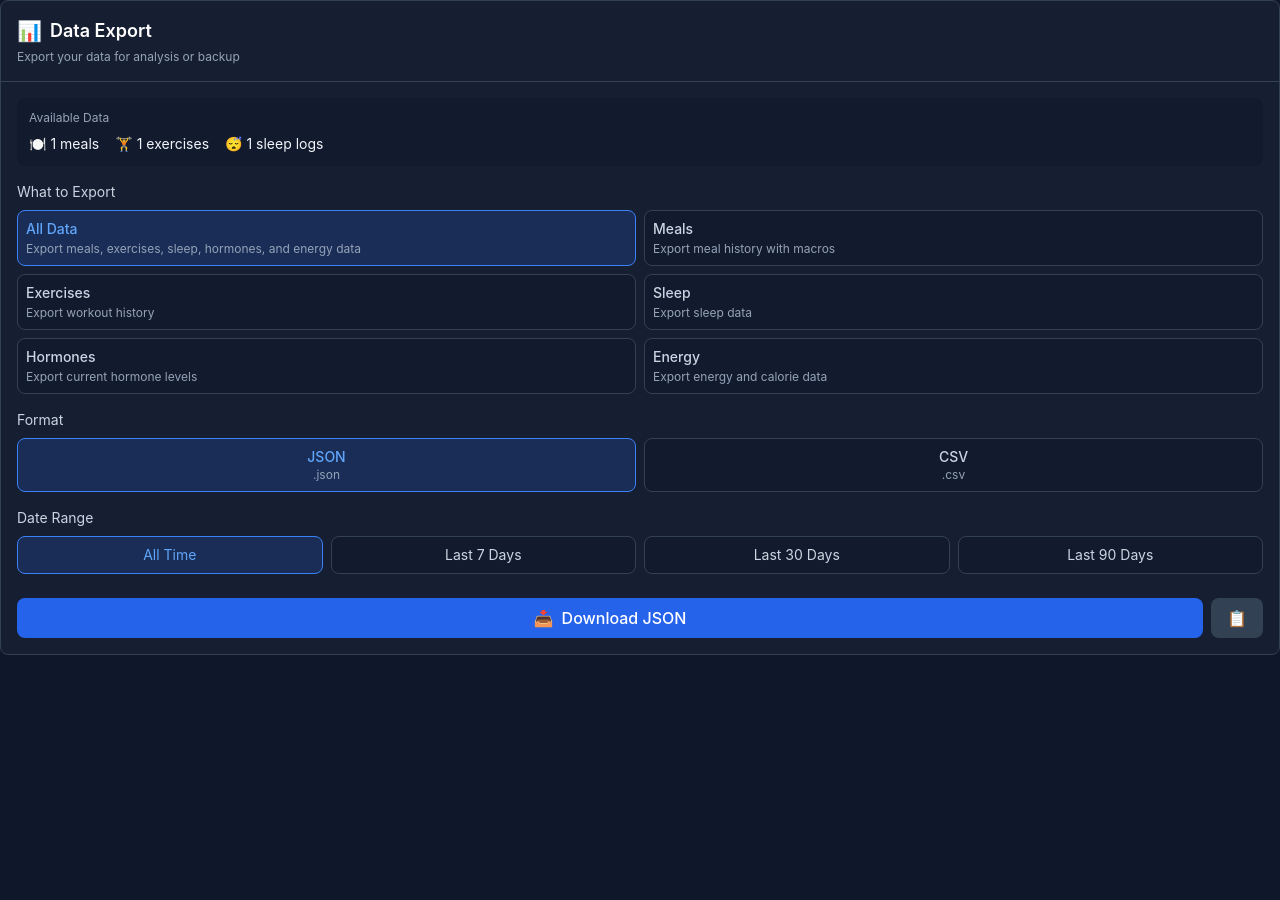
Test: DataExportPanel Component › Format Selection › should select format option on click
The width and height of the screenshot is (1280, 900).
Step 1. Click the button "CSV .csv" → (954, 465), box [644, 438, 1263, 492]
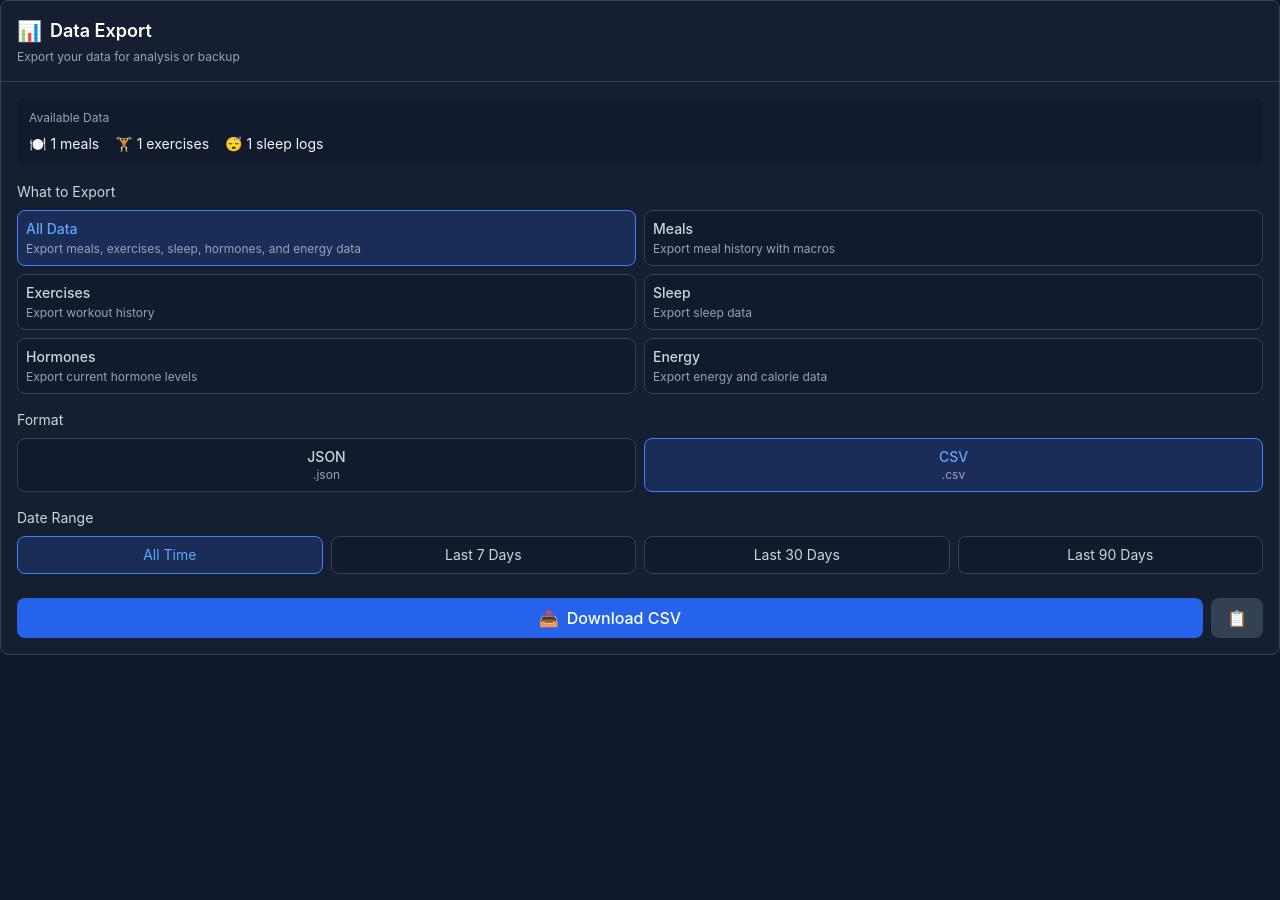
Now the text "Download CSV" is shown, box [567, 606, 681, 630]
